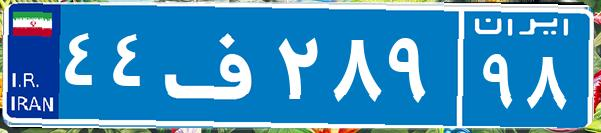2: (273, 28, 330, 110)
4: (57, 26, 110, 107), (110, 28, 158, 105)
8: (330, 28, 385, 110), (525, 38, 570, 115)
9: (385, 28, 445, 110), (475, 38, 525, 113)
ف: (158, 15, 273, 115)
